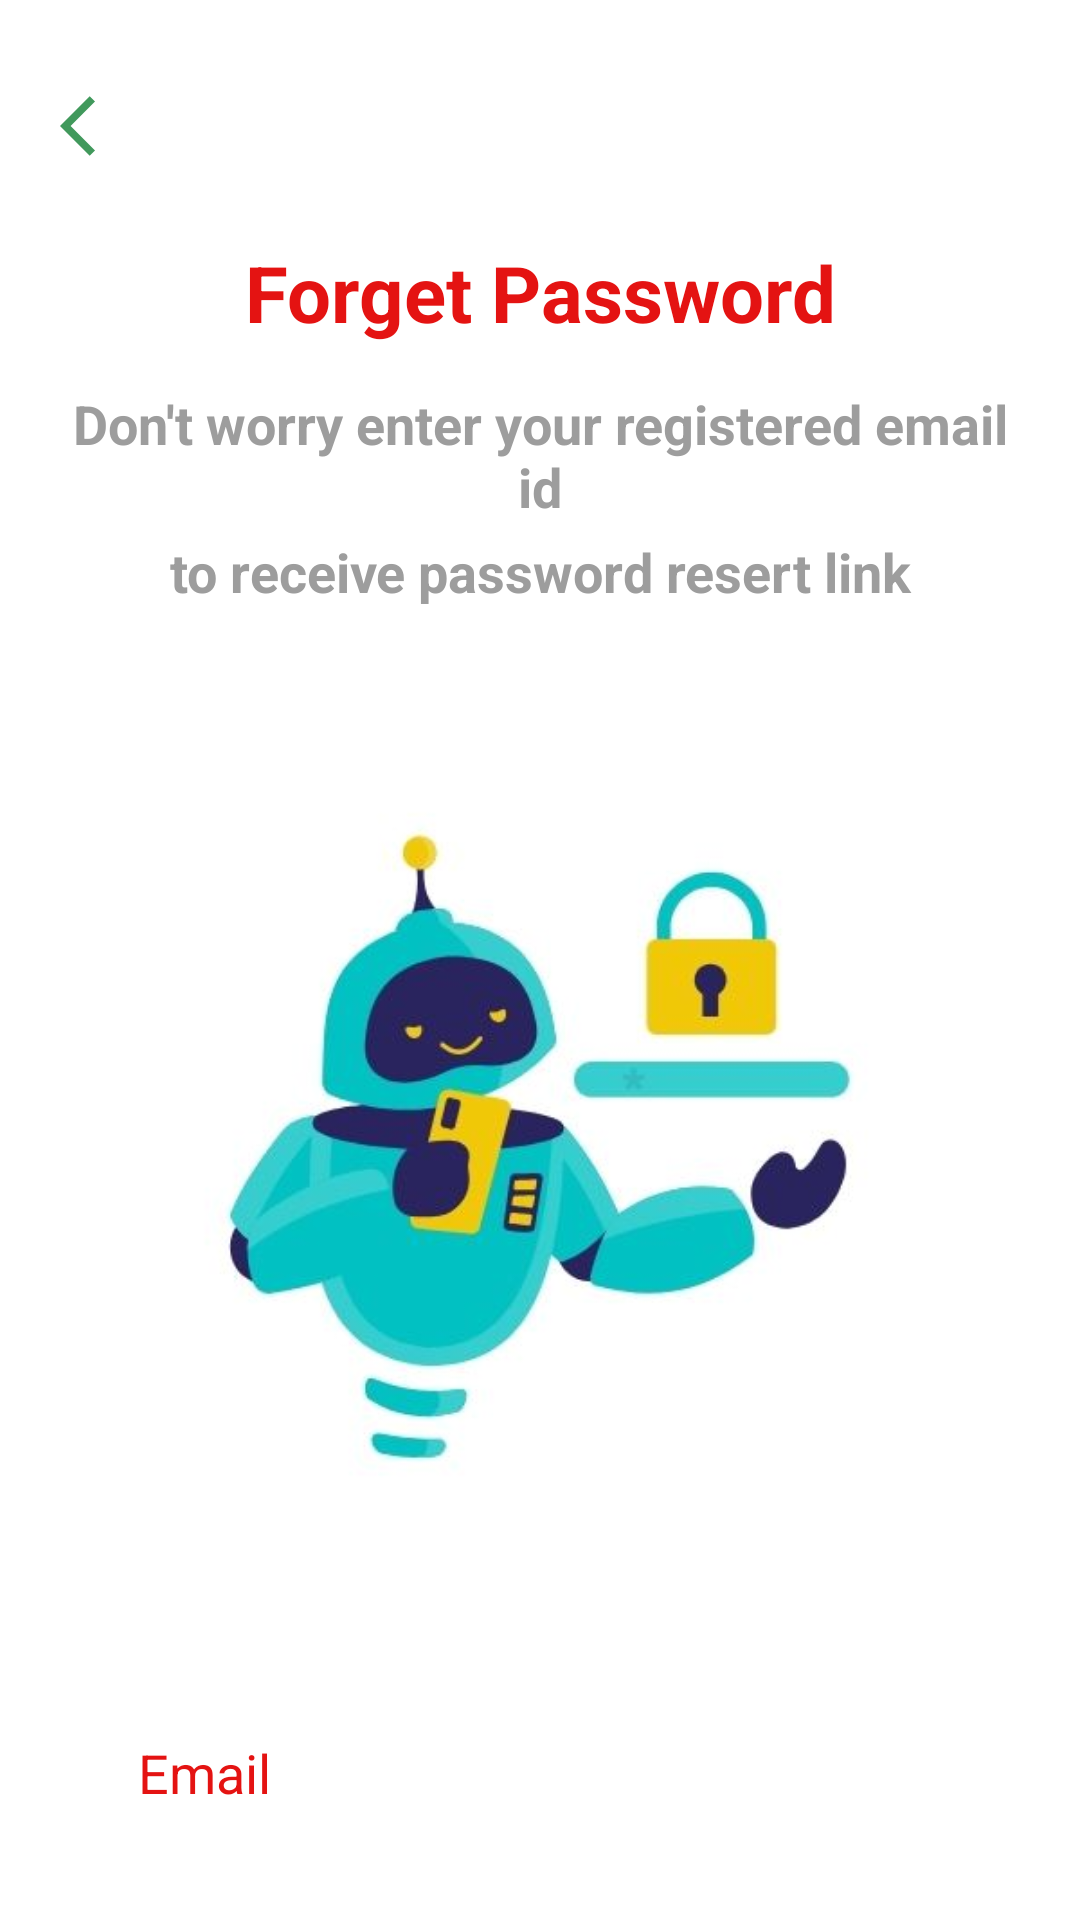

Named icons in this screenshot (1080x1920) and their centers, [x,y]:
arrow back: [77,126]
